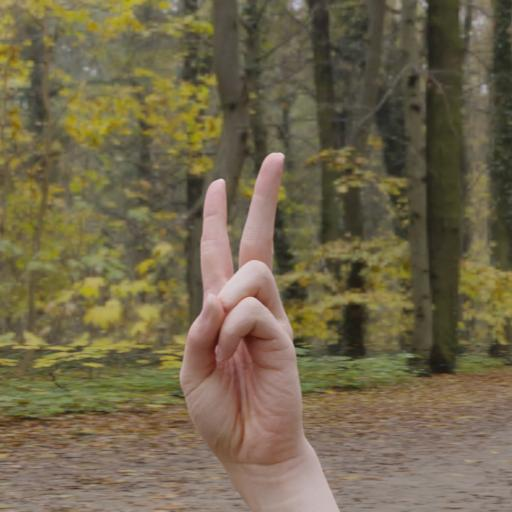V: (167, 139, 322, 482)
